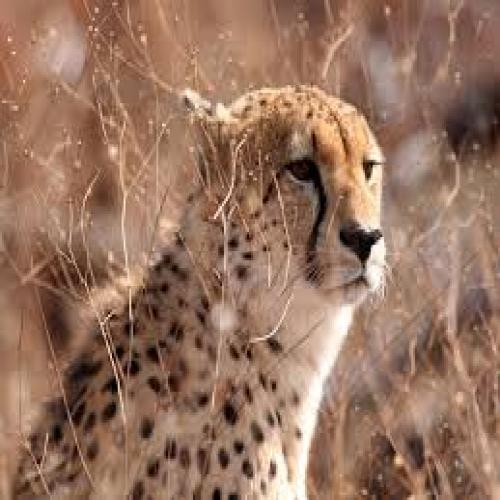cheetah-endangered: (24, 78, 389, 500)
